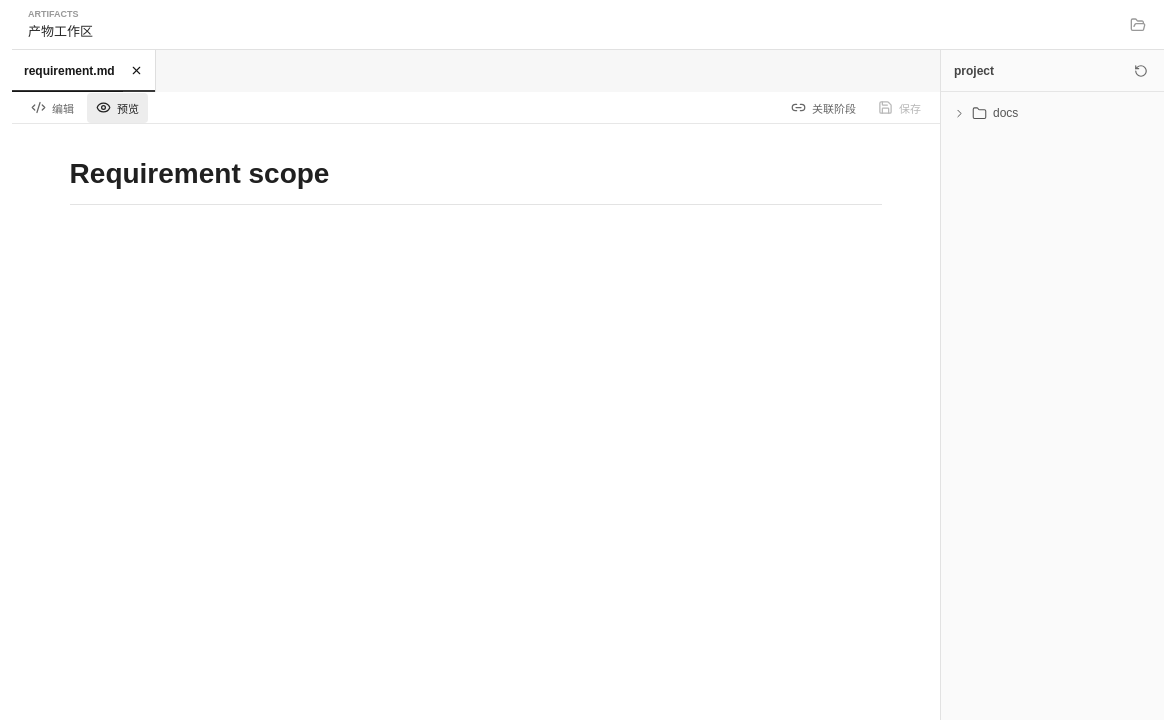
Test case: ArtifactWorkbench › shows a stable toast when associating a stage artifact fails
The width and height of the screenshot is (1164, 720).
Click the button with aria-label "关联到需求分析" at (824, 108), box top-left (782, 92), bottom-right (865, 122)
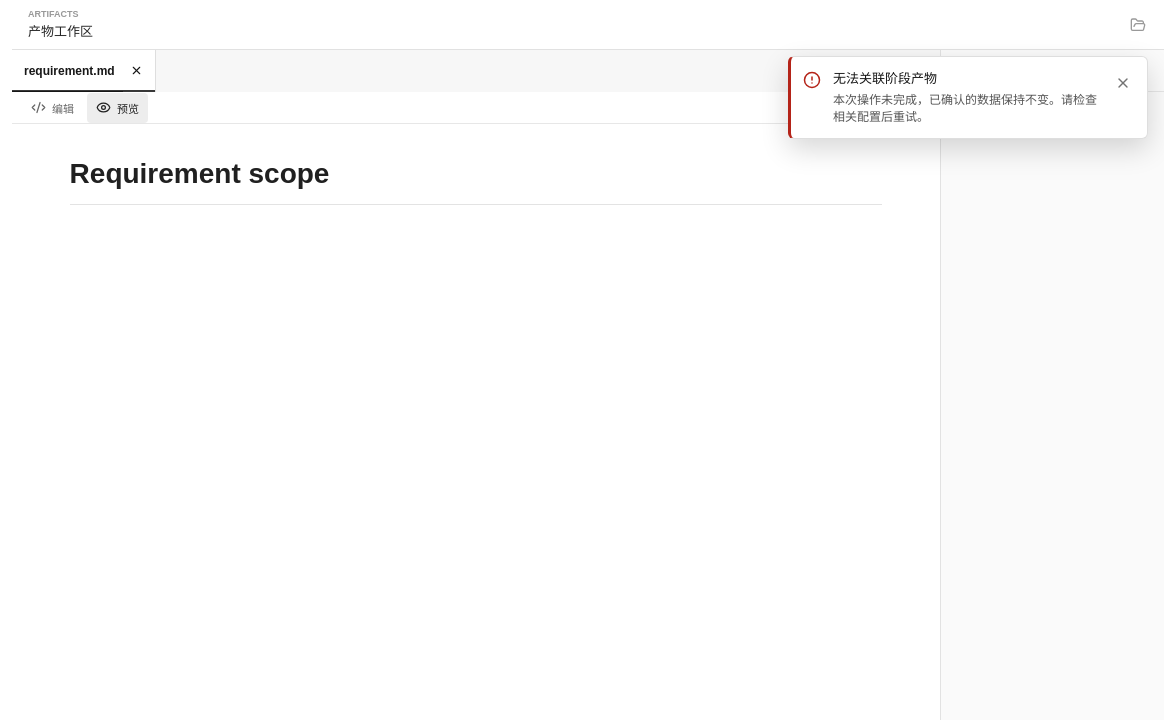
Now the text "无法关联阶段产物" is shown, box top-left (833, 71), bottom-right (937, 86)
